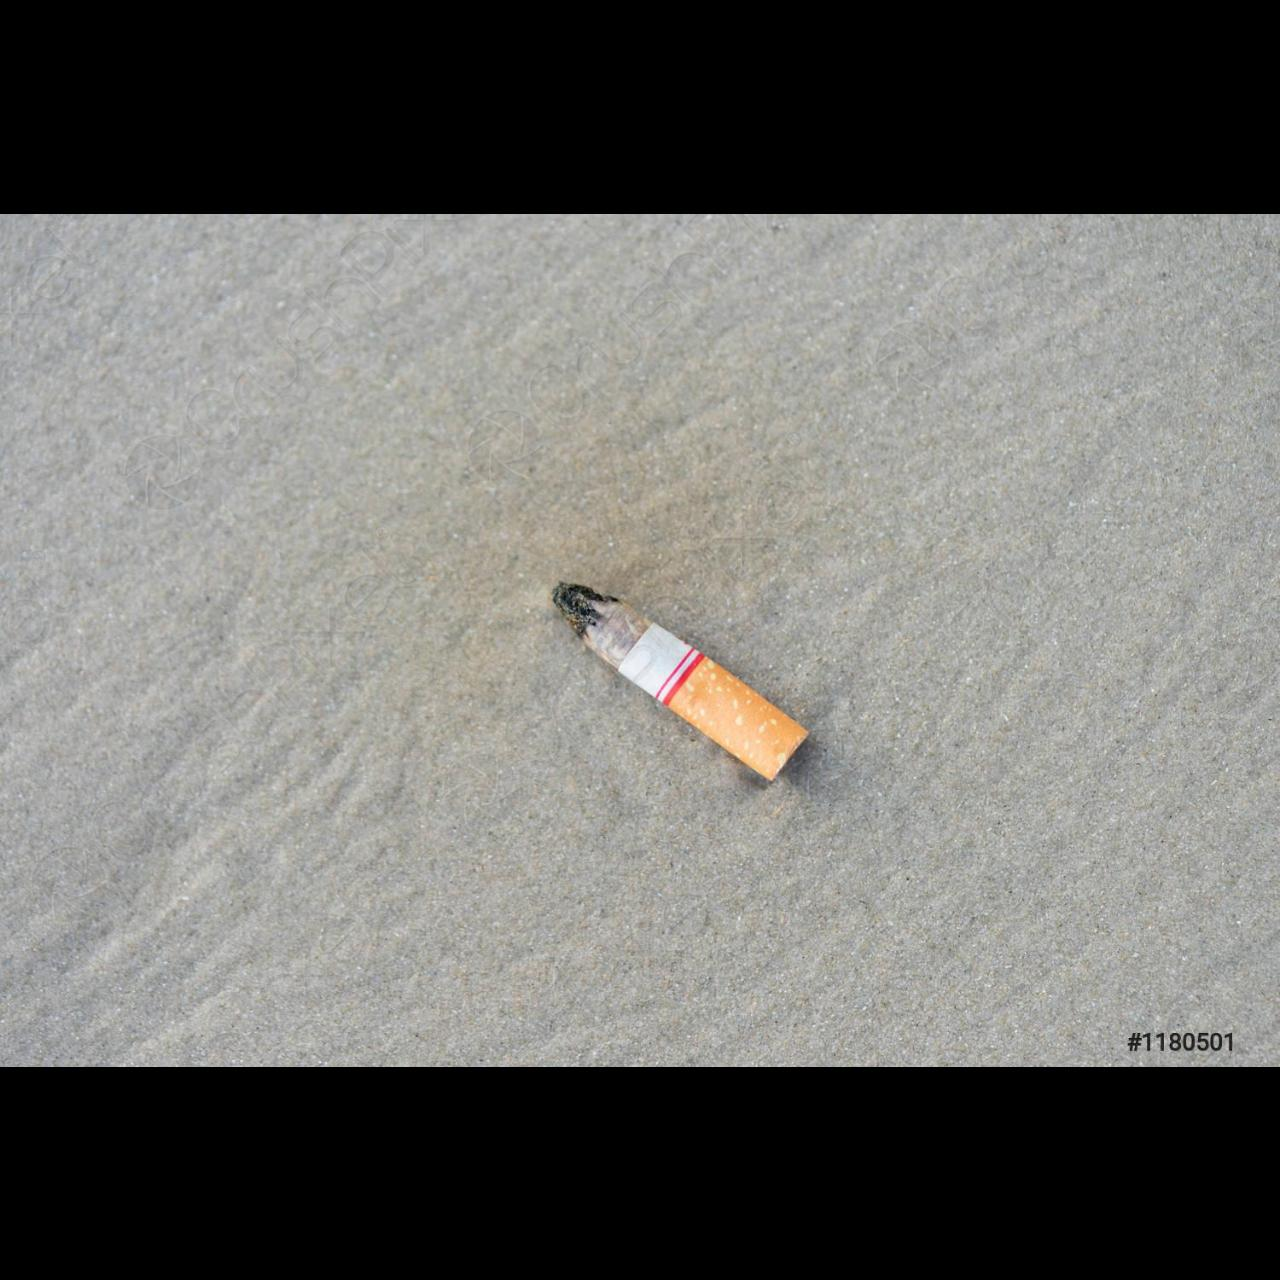cigarettes_butts: (552, 581, 809, 782)
